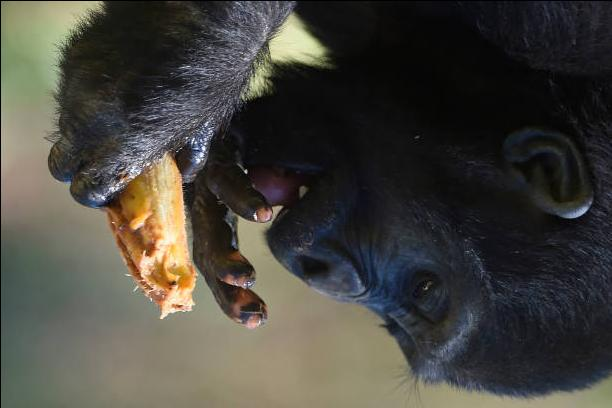gorille_Autres: (220, 0, 610, 408)
